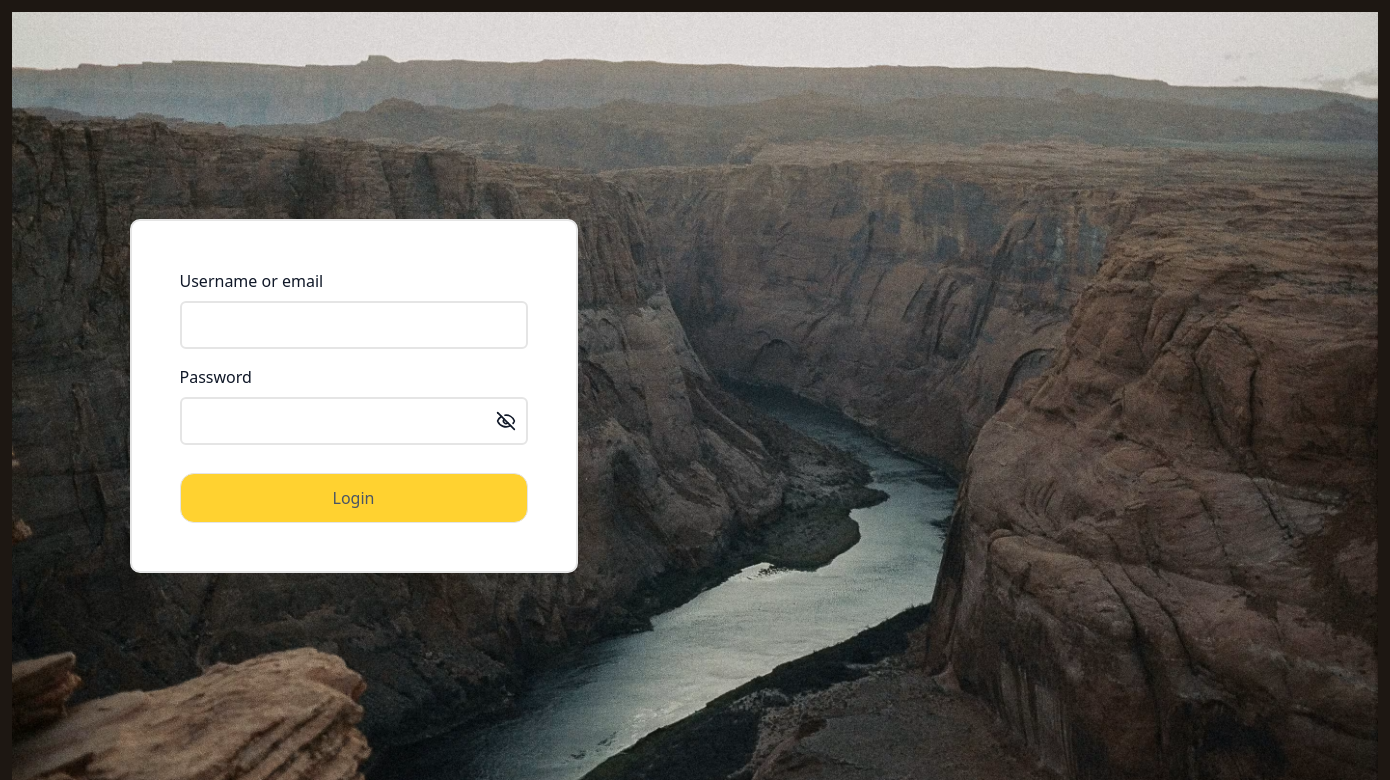
it: LoginForm › Include error flow › Error from input fields › shows error when email format is invalid
Type "not-an-email" into the field with test id "login-email" at {"x": 354, "y": 325}, box [180,301,528,349]
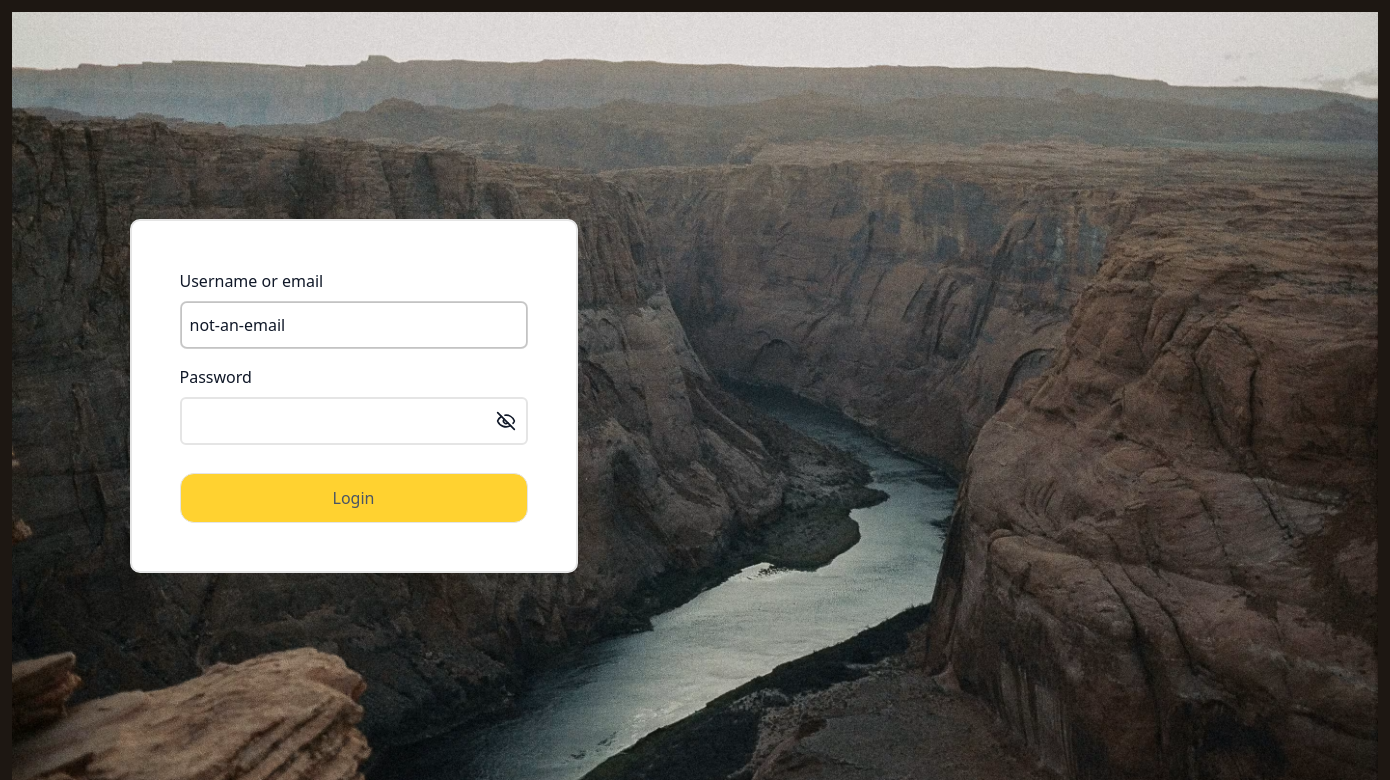
Type "password123" into the password field with test id "login-password" at {"x": 354, "y": 421}, box [180,397,528,445]
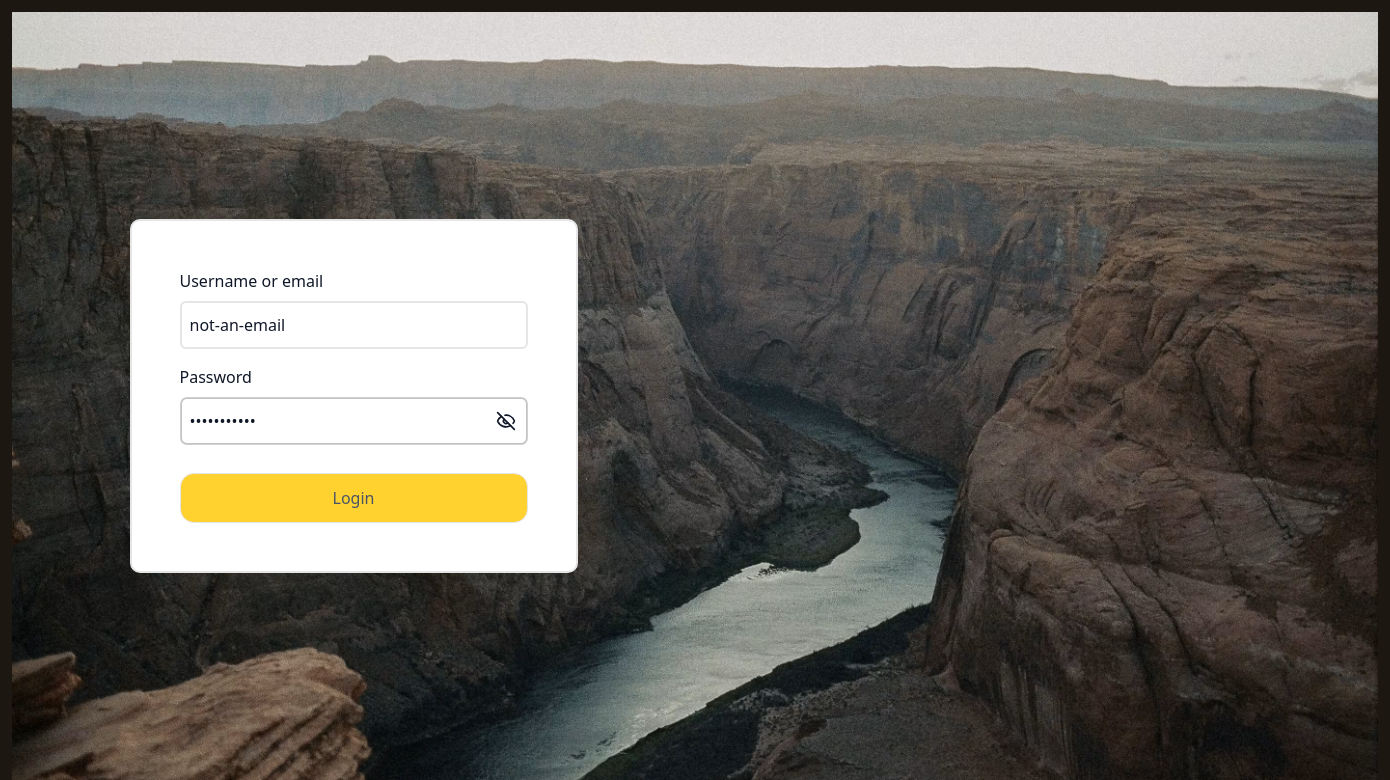
Click the button with test id "login-submit" at {"x": 354, "y": 498}, box [180,473,528,523]
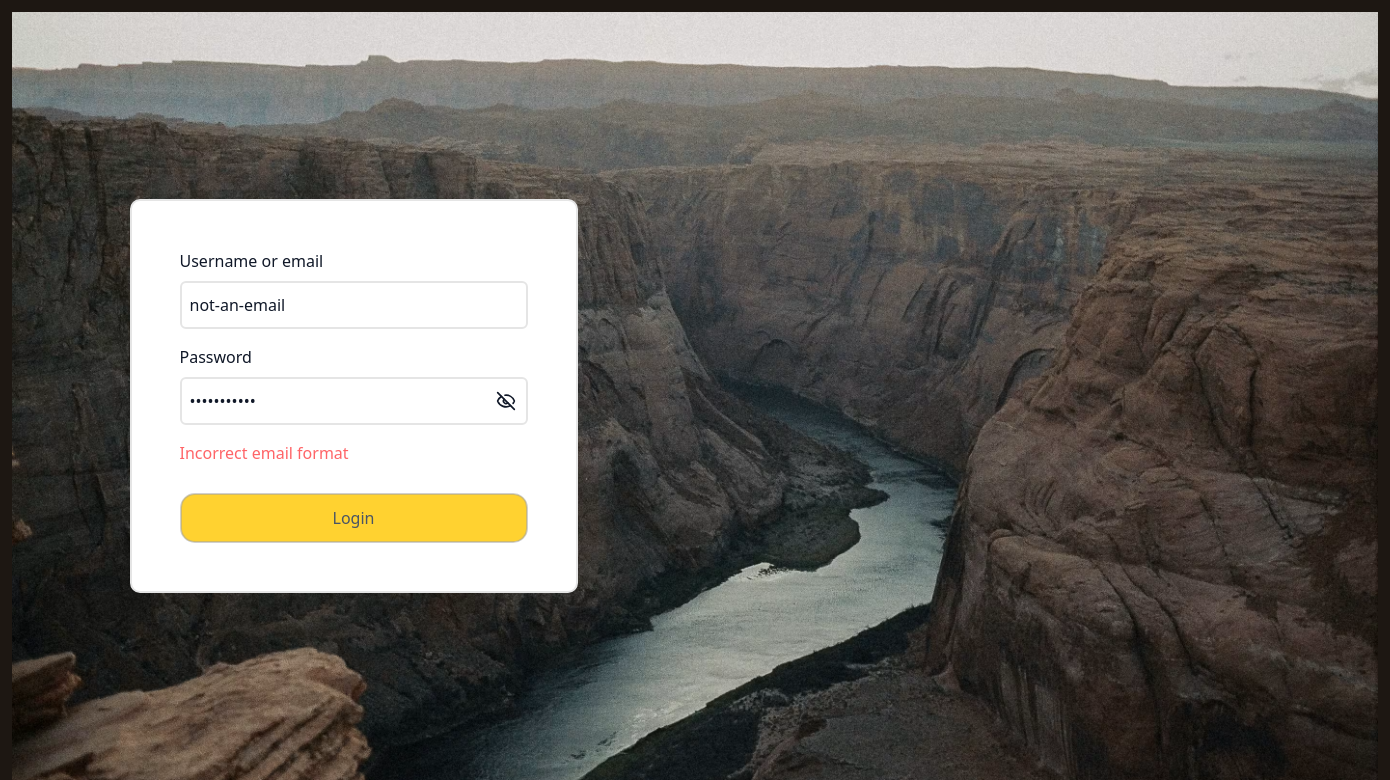
expect the message "Incorrect email format" is shown: met, box [180,442,349,464]
